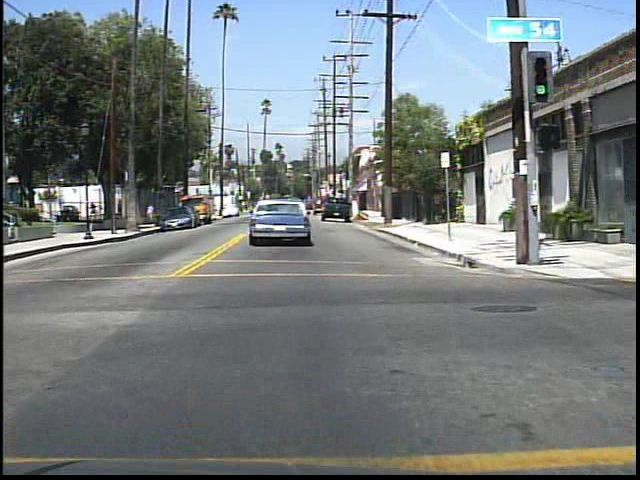person: (146, 197, 157, 226), (113, 195, 126, 219), (92, 198, 99, 220)
